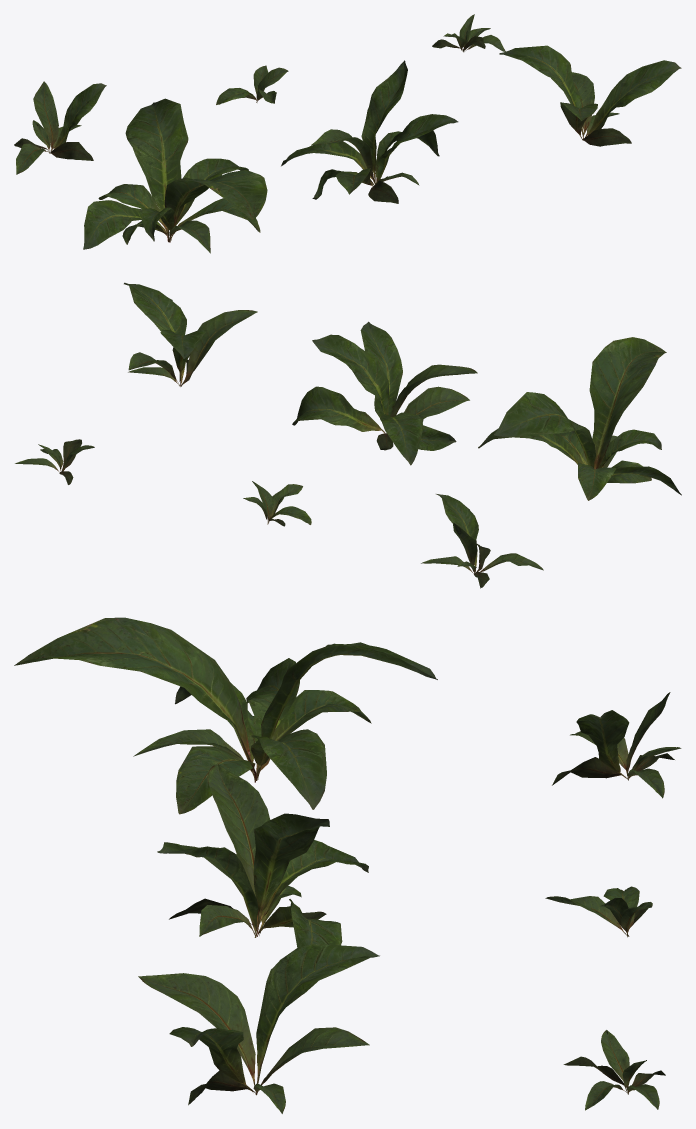
File: anthurium_botany_01.glb
3 views of the same model, one above another, from view 1: azimuth 30°, elevation 25°; view 2: azimuth 150°, elevation 25°; view 3: azimuth 270°, elevation 25° (orthographic). The views are drawn at different scales.
Visible parts, largest first — view 1: anthurium_botany_01_a, anthurium_botany_01_b, anthurium_botany_01_c, anthurium_botany_04_d, anthurium_botany_05_e, anthurium_botany_06_f; view 2: anthurium_botany_01_a, anthurium_botany_01_b, anthurium_botany_01_c, anthurium_botany_04_d, anthurium_botany_05_e, anthurium_botany_06_f; view 3: anthurium_botany_01_a, anthurium_botany_01_b, anthurium_botany_01_c, anthurium_botany_04_d, anthurium_botany_06_f, anthurium_botany_05_e.
Boxes of the visible parts, box(x1,y1,x2,y2) form: anthurium_botany_01_a: box(83, 98, 267, 253); anthurium_botany_01_b: box(281, 60, 458, 203); anthurium_botany_01_c: box(499, 45, 681, 146); anthurium_botany_04_d: box(14, 81, 106, 174); anthurium_botany_05_e: box(216, 65, 288, 104); anthurium_botany_06_f: box(432, 14, 505, 52); anthurium_botany_01_a: box(478, 337, 681, 500); anthurium_botany_01_b: box(292, 321, 477, 465); anthurium_botany_01_c: box(124, 282, 257, 386); anthurium_botany_04_d: box(421, 494, 543, 588); anthurium_botany_05_e: box(243, 481, 311, 526); anthurium_botany_06_f: box(15, 439, 94, 484); anthurium_botany_01_a: box(14, 617, 437, 814); anthurium_botany_01_b: box(157, 763, 368, 947); anthurium_botany_01_c: box(138, 943, 379, 1113); anthurium_botany_04_d: box(552, 692, 681, 798); anthurium_botany_06_f: box(563, 1030, 665, 1110); anthurium_botany_05_e: box(545, 886, 652, 937).
Size of the model in its own units: 2.8 by 0.4996 by 1.8.
Materials: 1 (1 with a texture image).
